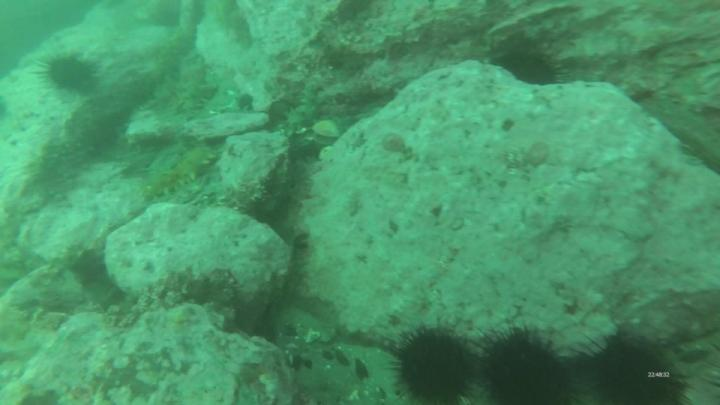echinus: (575, 329, 693, 405), (475, 322, 576, 405), (386, 320, 480, 405), (489, 50, 568, 88), (34, 56, 101, 100)
holothurian: (141, 141, 226, 207), (282, 66, 338, 141), (169, 48, 216, 122), (208, 1, 256, 54)
